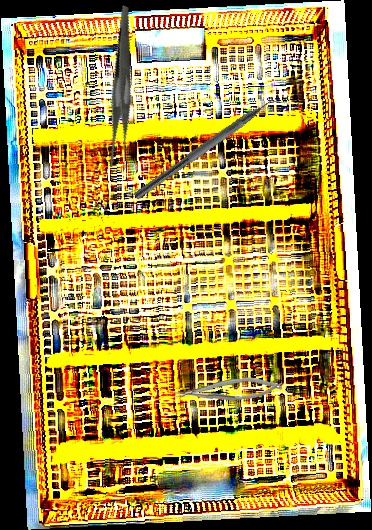Chopper: (132, 86, 292, 211)
Dressing Forceps: (67, 5, 180, 172)
Needle Holder: (172, 376, 283, 403)
